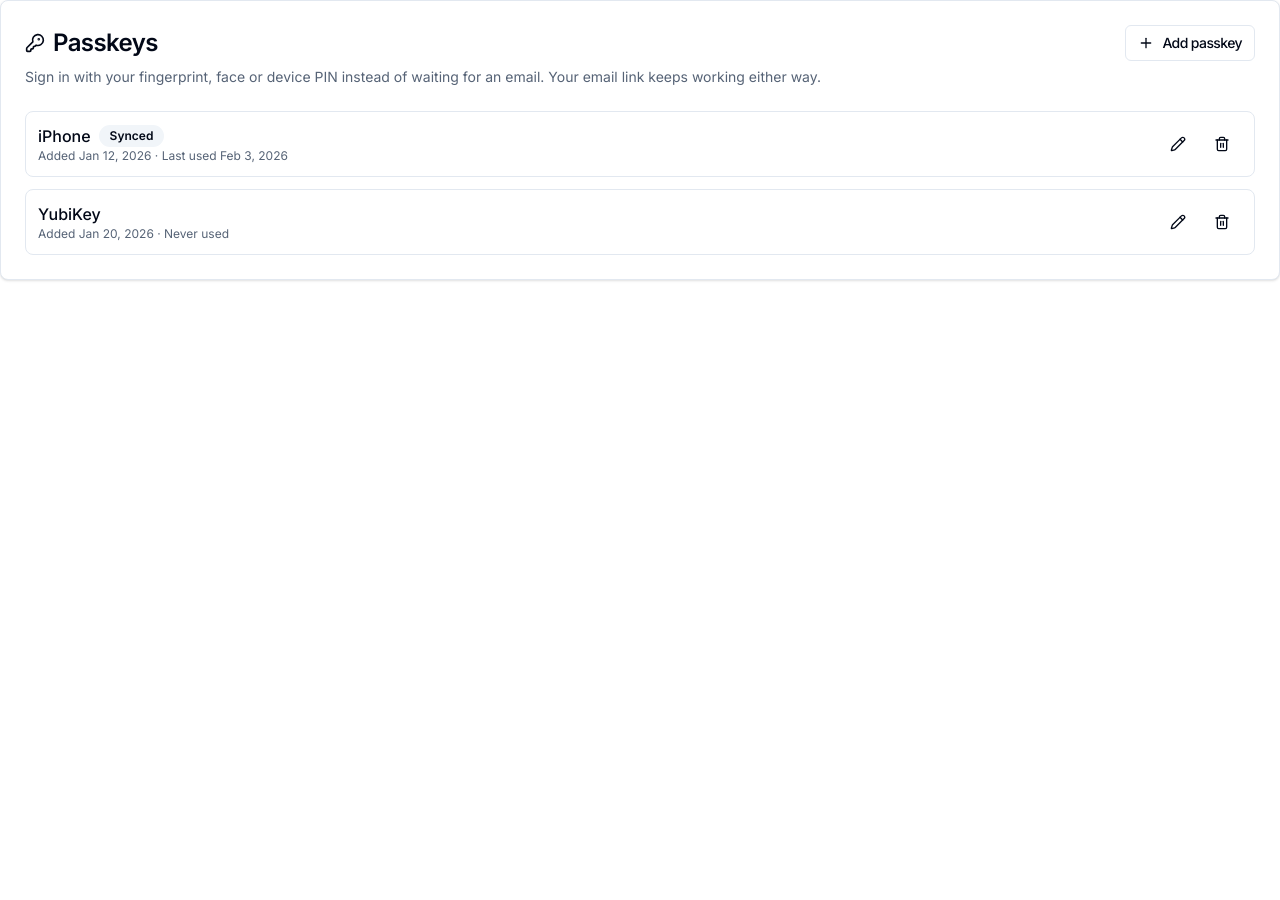
Test: PasskeysCard › revokes a passkey only after the confirmation
Expected: the text "iPhone" is shown, [38, 124, 91, 148]
Click the button named "Remove iPhone". click: (1222, 144)
box: [1202, 126, 1242, 162]
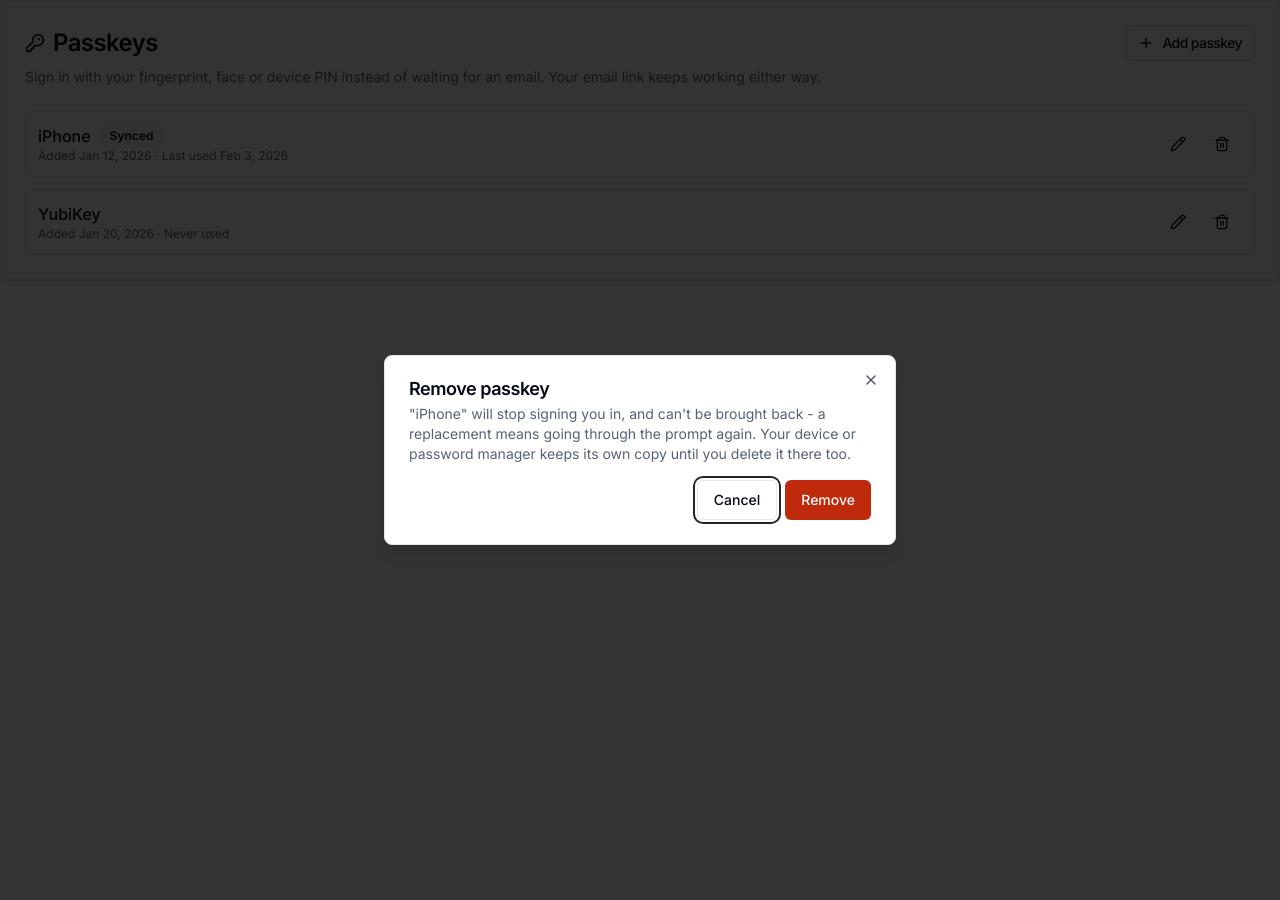
Now the dialog shows "iPhone", box [409, 405, 856, 462]
Click the button "Remove". click: (828, 500)
box: [785, 480, 871, 520]
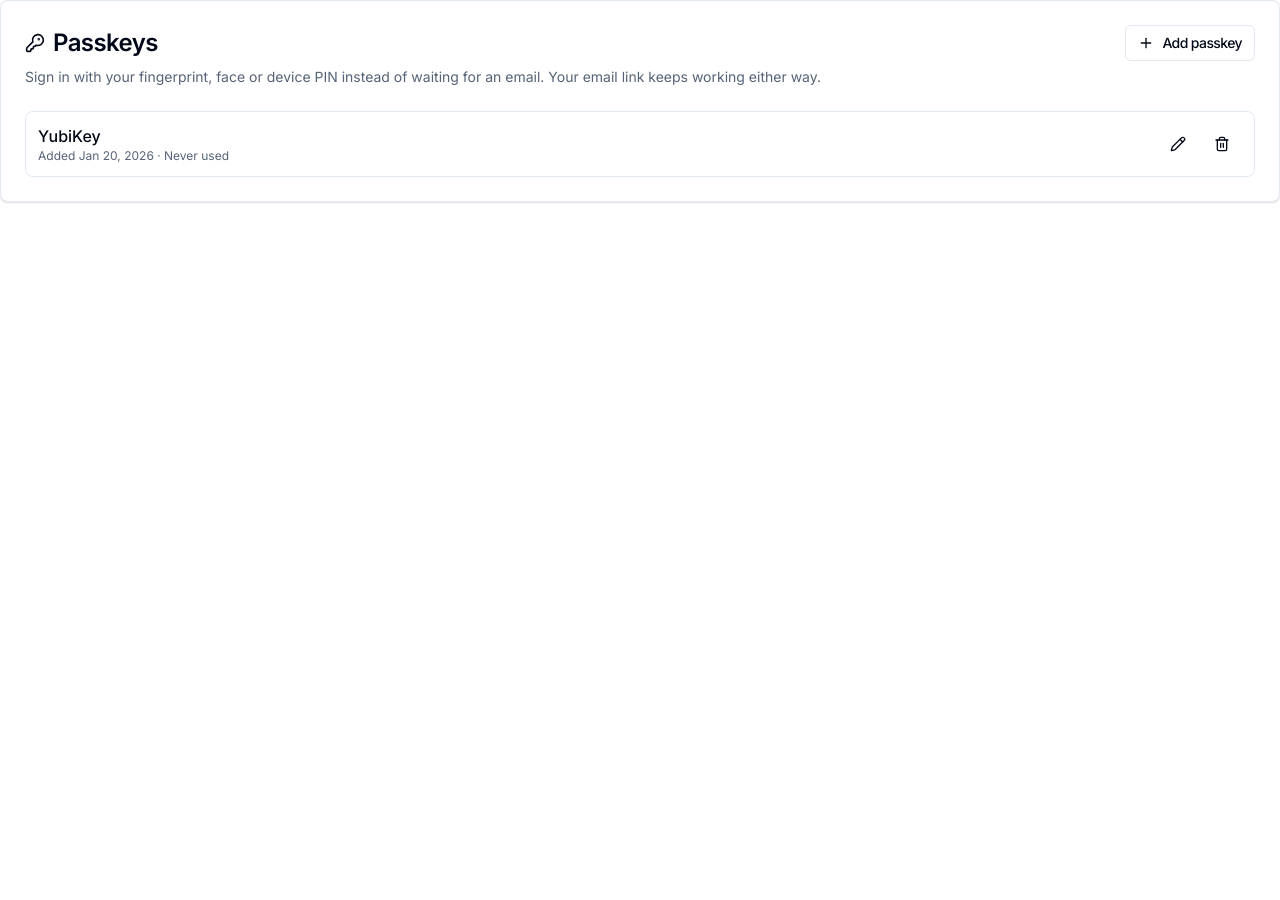
Now the text "iPhone" is gone
